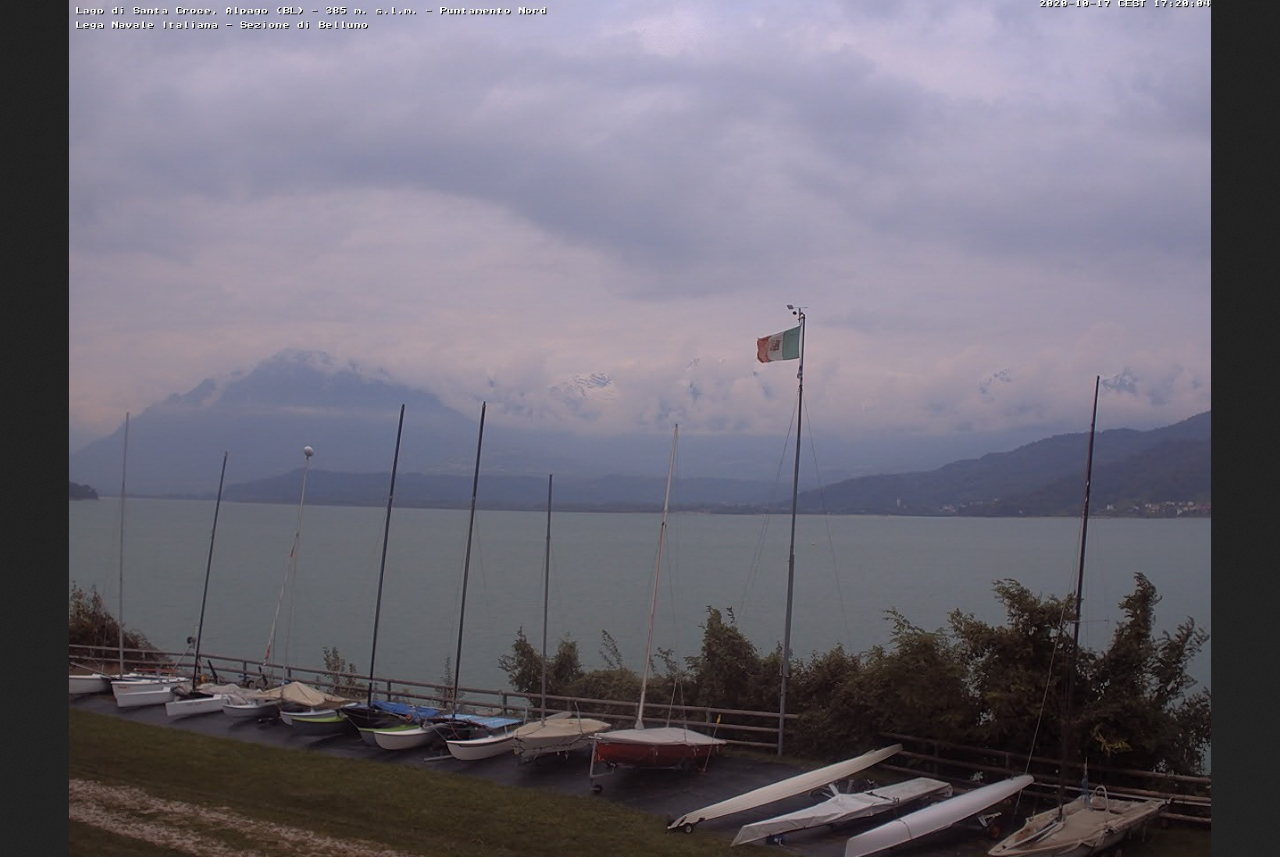yes: (753, 328, 800, 364)
